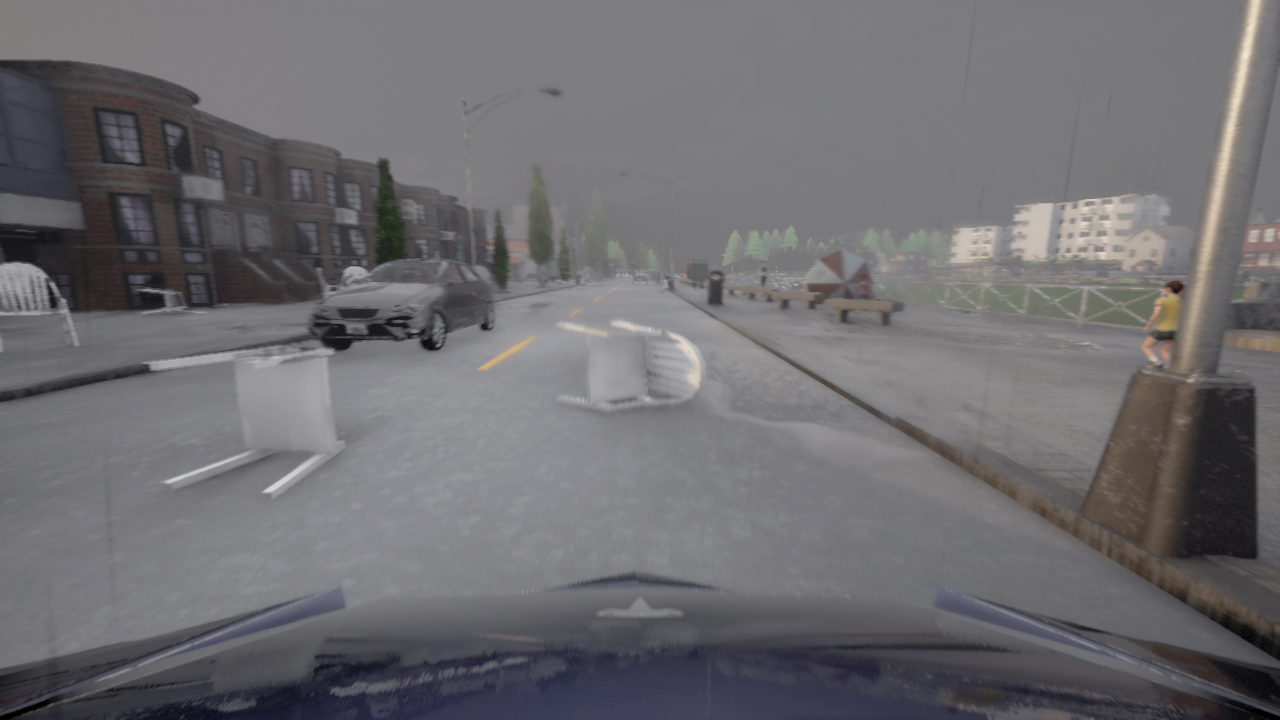cyclist: (0, 569, 1279, 719), (308, 259, 495, 350), (631, 271, 648, 283)
pedestrian: (1142, 279, 1184, 368), (855, 274, 872, 312), (758, 259, 769, 295)
